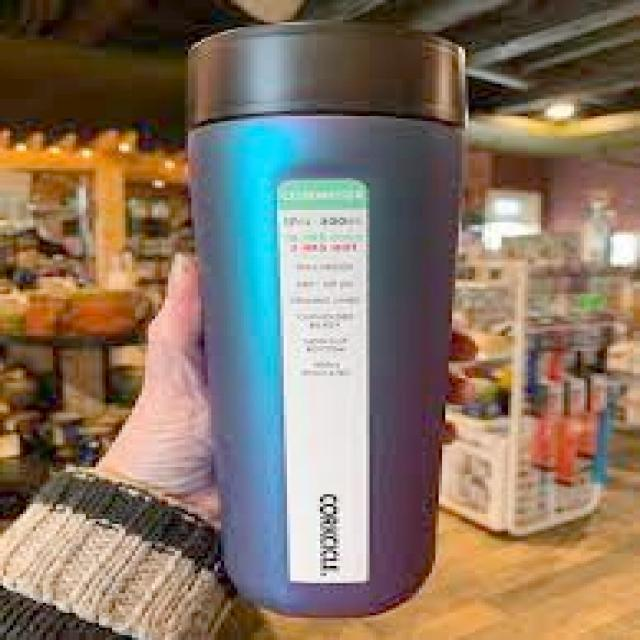bottle: (186, 26, 464, 620)
